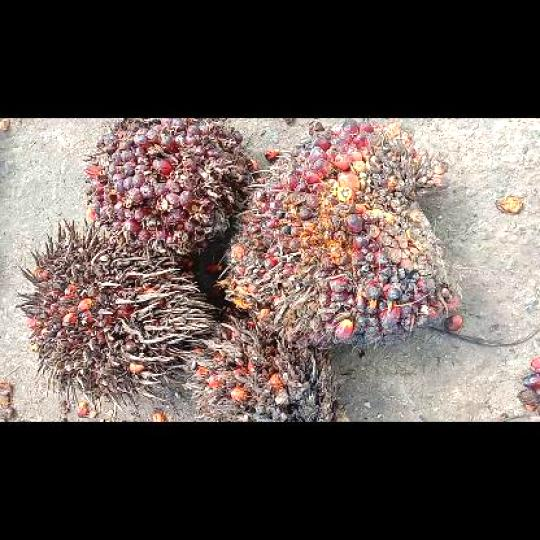masak: (218, 118, 454, 347), (84, 118, 256, 261)
terlalu masak: (15, 219, 213, 409), (184, 314, 338, 421)
